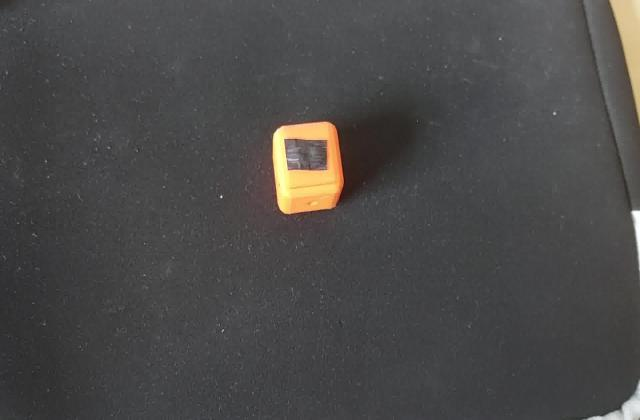black: (278, 135, 334, 175)
sticker: (268, 118, 350, 220)
